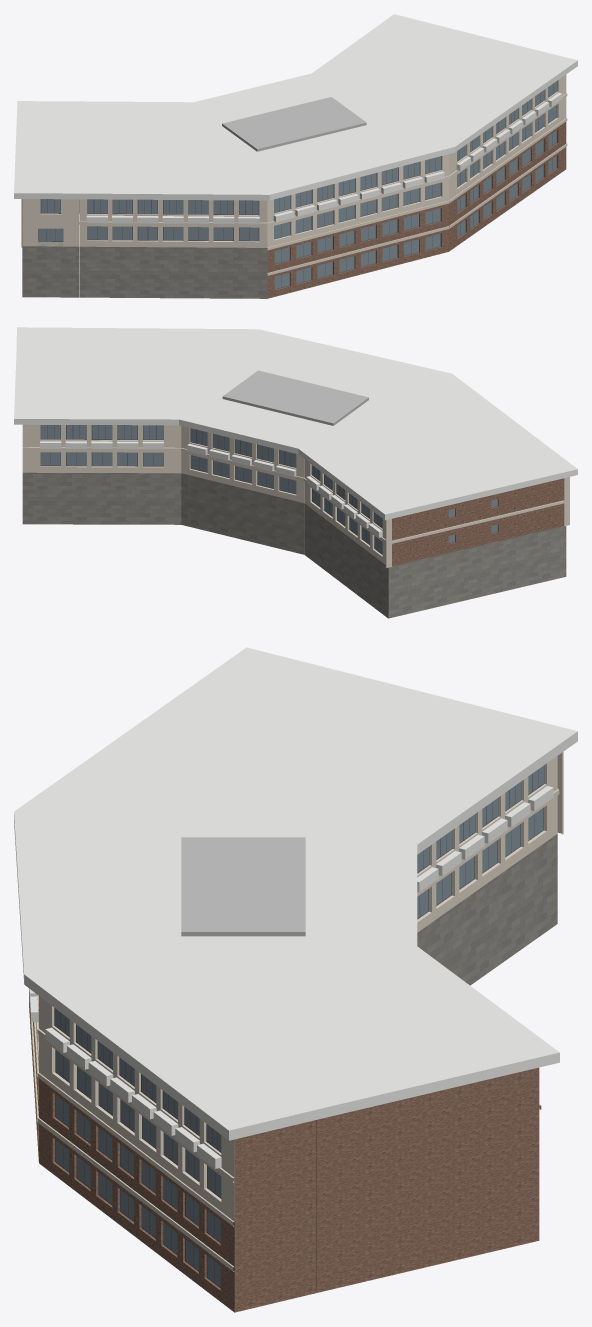
3 views of the same model, one above another, from view 1: azimuth 30°, elevation 25°; view 2: azimuth 150°, elevation 25°; view 3: azimuth 270°, elevation 25° (orthographic). The views are drawn at different scales.
Parts seen in each view (by area): view 1: library1__white, library1__glass, library1__cream, library1__stone, library1__brick, library1__roof, library1__frame; view 2: library1__white, library1__stone, library1__cream, library1__brick, library1__glass, library1__roof, library1__frame; view 3: library1__white, library1__brick, library1__cream, library1__glass, library1__roof, library1__stone, library1__frame.
Part boxes in pixels (box(x1,y1,x2,y2)): library1__white: box(14, 14, 577, 224); library1__glass: box(39, 81, 556, 289); library1__cream: box(21, 74, 567, 275); library1__stone: box(22, 199, 267, 298); library1__brick: box(22, 121, 566, 298); library1__roof: box(222, 97, 366, 151); library1__frame: box(38, 81, 557, 289); library1__white: box(14, 327, 577, 537); library1__stone: box(22, 472, 566, 618); library1__cream: box(22, 424, 569, 567); library1__brick: box(392, 478, 563, 565); library1__glass: box(41, 425, 497, 554); library1__roof: box(222, 370, 368, 425); library1__frame: box(40, 425, 497, 554); library1__white: box(14, 647, 577, 1168); library1__brick: box(29, 991, 539, 1312); library1__cream: box(31, 752, 563, 1271); library1__glass: box(54, 765, 544, 1287); library1__roof: box(181, 837, 305, 936); library1__stone: box(417, 834, 557, 985); library1__frame: box(54, 765, 544, 1287).
Bounding box in the file's own units: 91.93 × 17.3 × 45.34.
Materials: 7 (2 with a texture image).
